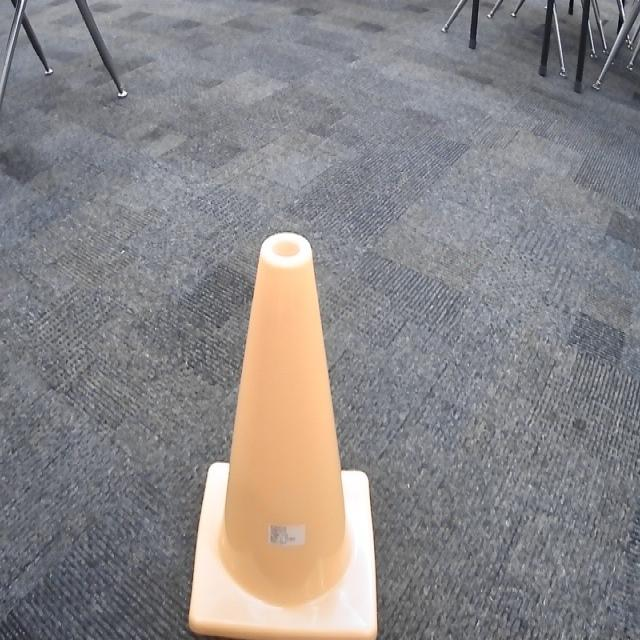cone: (180, 216, 388, 640)
